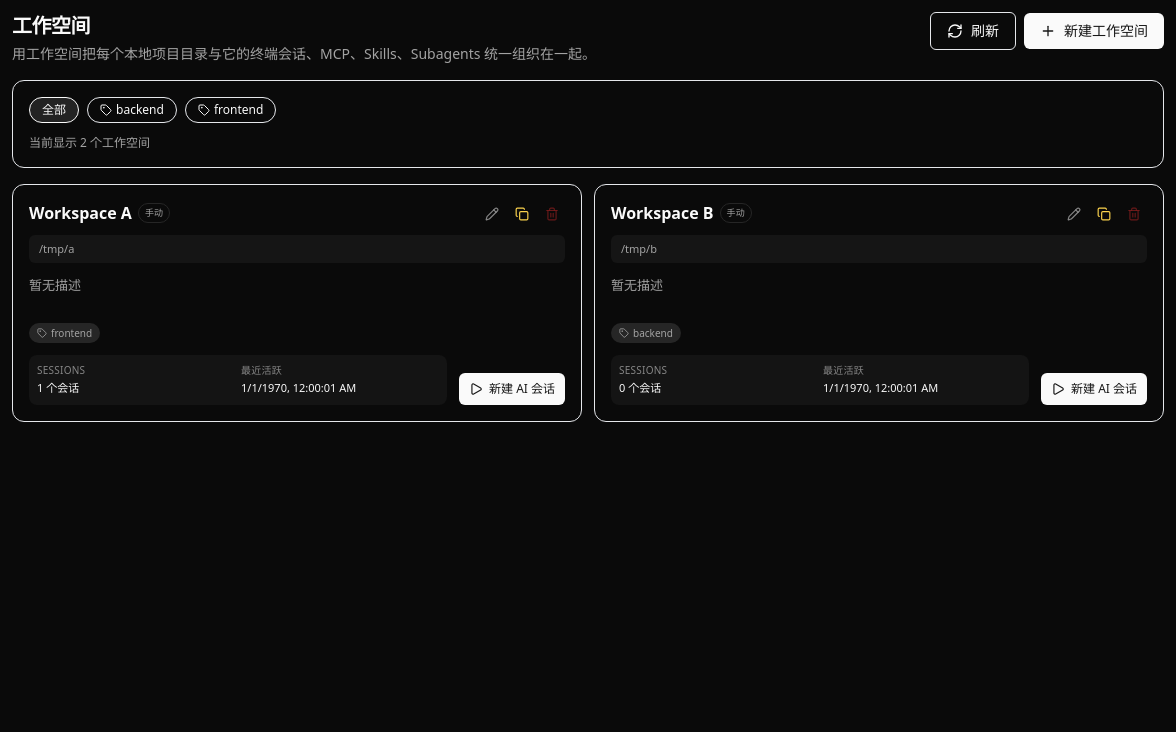
Test: Workspaces › opens workspace detail after a StrictMode remount
Click the text "Workspace A": (80, 213) [29,203,132,223]
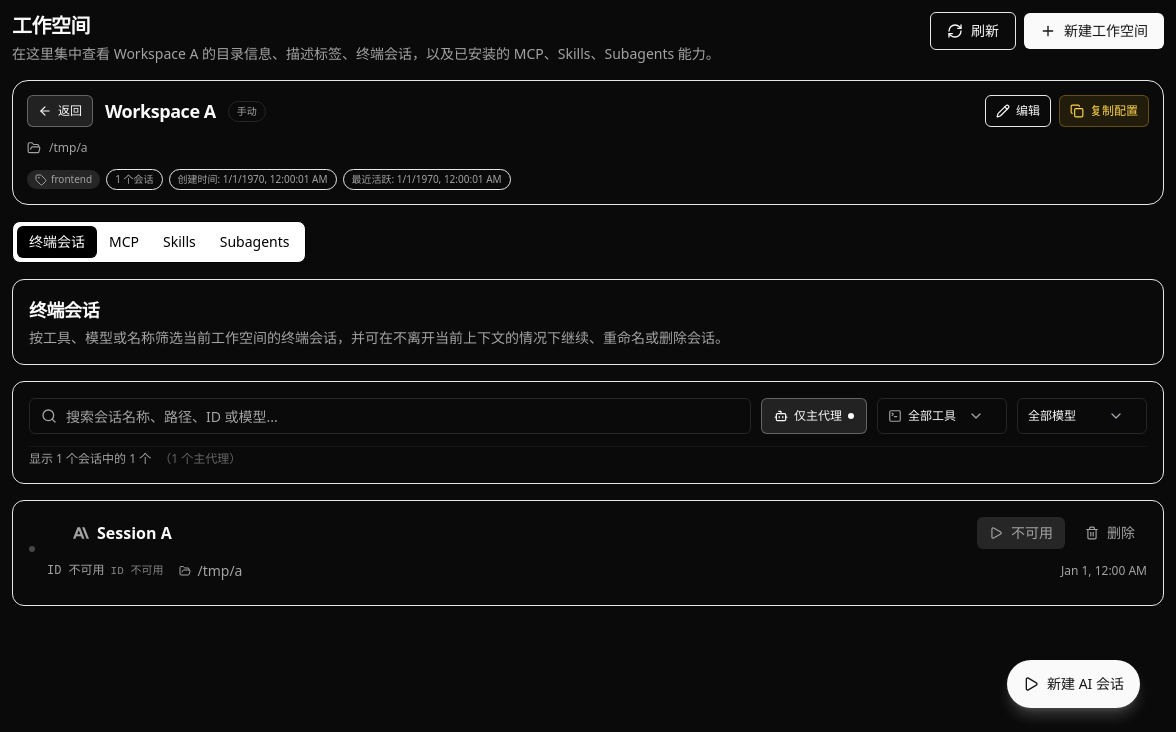
Result: the heading "终端会话" is shown at [29,298,99,322]
Result: the text "Session A" is shown at [97,521,172,545]
